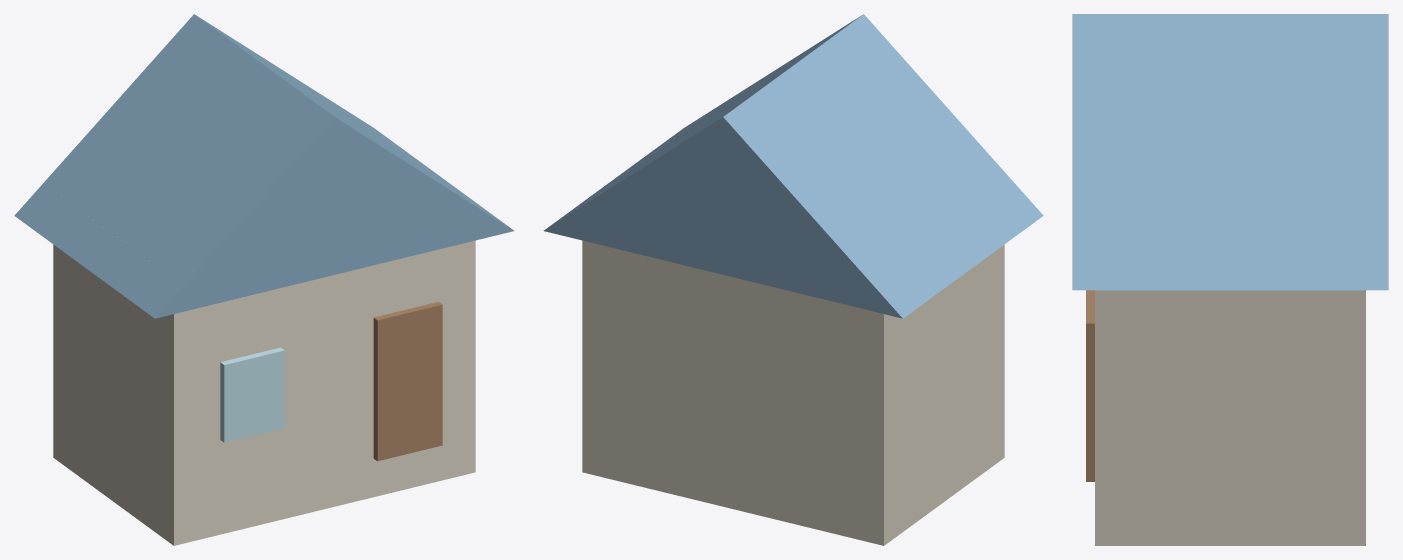
Rendered from house_blue_01_prompt3d_raw.glb.
3 renders of one model, left to right at view 1: azimuth 30°, elevation 25°; view 2: azimuth 150°, elevation 25°; view 3: azimuth 270°, elevation 25°, orthographic. The views are drawn at different scales.
Visible parts, largest first — view 1: asset_root; view 2: asset_root; view 3: asset_root.
Part boxes in pixels (<box>): asset_root: <box>14,14,514,545</box>; asset_root: <box>543,14,1043,545</box>; asset_root: <box>1072,14,1388,545</box>.
Bounding box in the file's own units: 1.55 × 1.64 × 1.05.
